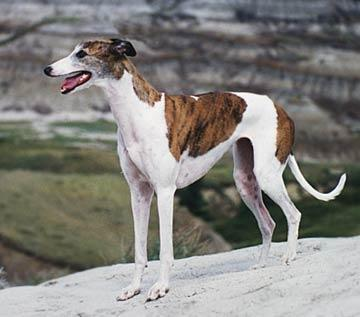Ibizan_hound: (45, 39, 348, 307)
